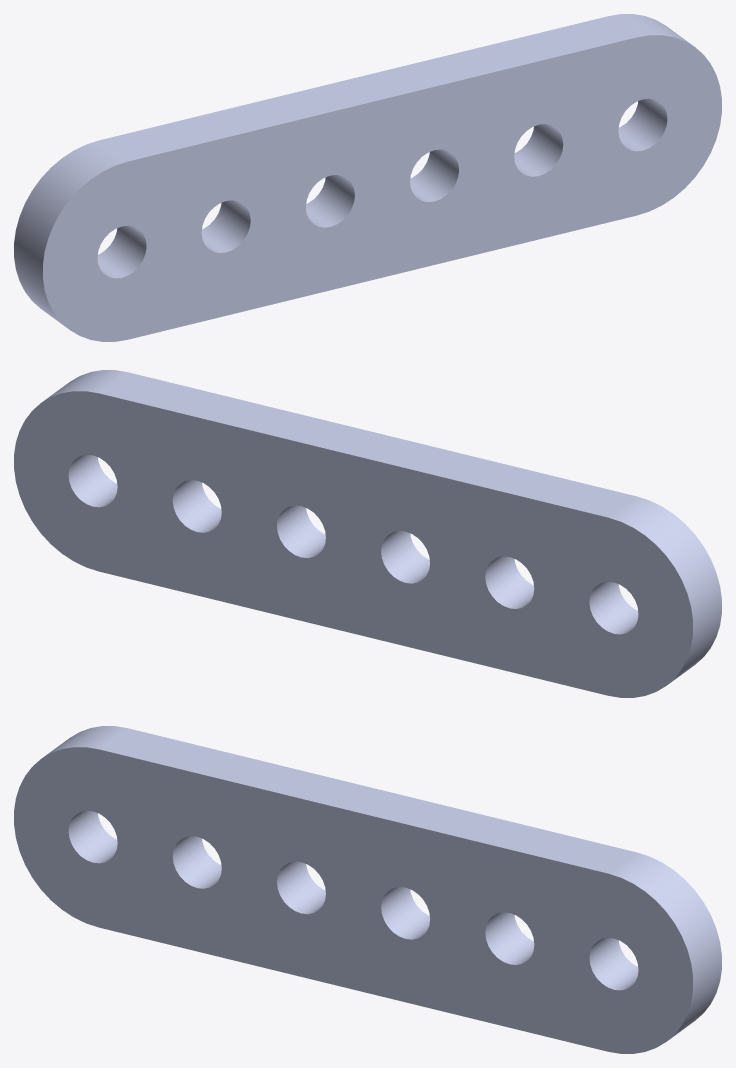
File: Topplate.glb
The picture shows the model from 3 angles, top to bottom: view 1: azimuth 30°, elevation 25°; view 2: azimuth 150°, elevation 25°; view 3: azimuth 330°, elevation 25°; orthographic projection.
Parts seen in each view (by area): view 1: Topplate; view 2: Topplate; view 3: Topplate.
Boxes of the visible parts, left/top/right/bottom form: Topplate: left=14, top=14, right=721, bottom=341; Topplate: left=14, top=370, right=721, bottom=697; Topplate: left=14, top=726, right=721, bottom=1053.
Bounding box in the file's own units: 0.0678 × 0.017 × 0.005.
